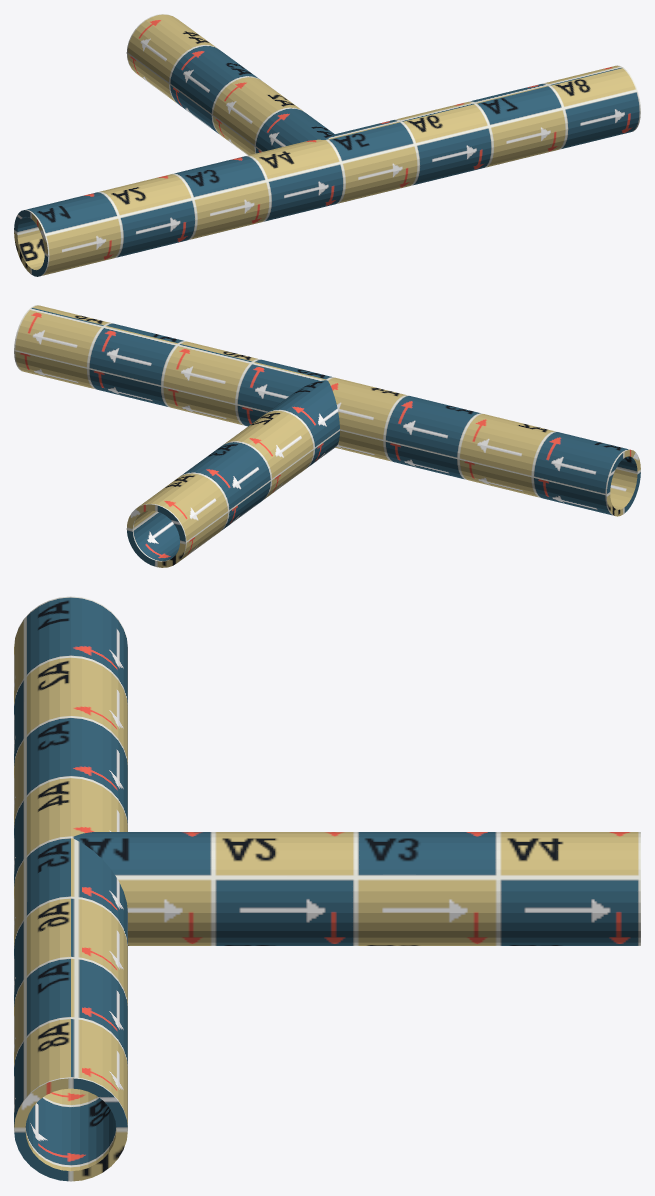
The model's file is PIPE_Tee.fbx.
3 renders of one model, top to bottom at view 1: azimuth 30°, elevation 25°; view 2: azimuth 150°, elevation 25°; view 3: azimuth 270°, elevation 25°, orthographic. The views are drawn at different scales.
Parts seen in each view (by area): view 1: PIPE_Tee; view 2: PIPE_Tee; view 3: PIPE_Tee.
Boxes of the visible parts, <box> form: PIPE_Tee: <box>14,14,640,276</box>; PIPE_Tee: <box>14,305,640,567</box>; PIPE_Tee: <box>14,596,640,1181</box>.
Size of the model in its own units: 200 by 20 by 110.
1 material, 1 textured.
